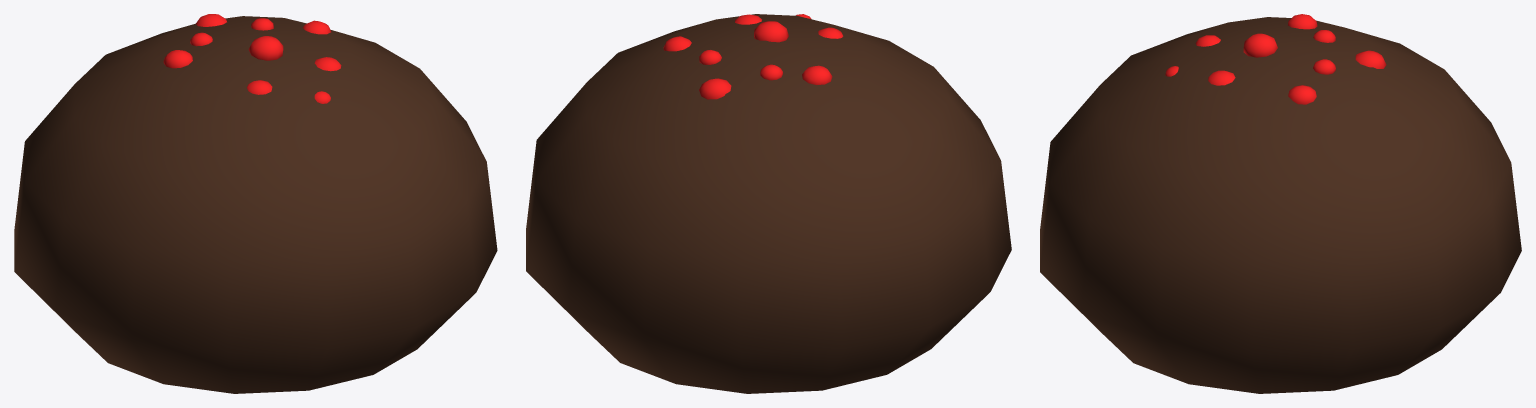
The model's file is Praline.fbx.
3 views of the same model, side by side, from view 1: azimuth 30°, elevation 25°; view 2: azimuth 150°, elevation 25°; view 3: azimuth 270°, elevation 25° (orthographic).
Visible parts, largest first — view 1: Praline, Sphere003, Sphere004; view 2: Praline, Sphere003, Sphere002, Sphere004; view 3: Praline, Sphere003, Sphere005, Sphere002.
Part boxes in pixels (<box>): Praline: <box>14,16,497,393</box>; Sphere003: <box>248,36,283,60</box>; Sphere004: <box>163,50,192,68</box>; Praline: <box>526,14,1011,393</box>; Sphere003: <box>754,21,788,42</box>; Sphere002: <box>699,78,731,99</box>; Sphere004: <box>802,65,832,84</box>; Praline: <box>1040,17,1521,393</box>; Sphere003: <box>1243,33,1277,57</box>; Sphere005: <box>1288,85,1316,104</box>; Sphere002: <box>1355,50,1386,68</box>.
Size of the model in its own units: 116 by 75.16 by 115.
